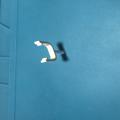u-shape: (33, 39, 64, 65)
